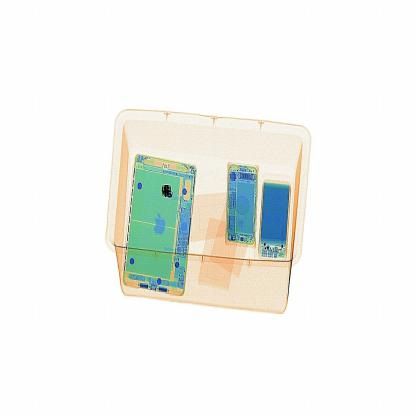scissors: (157, 178, 188, 210)
